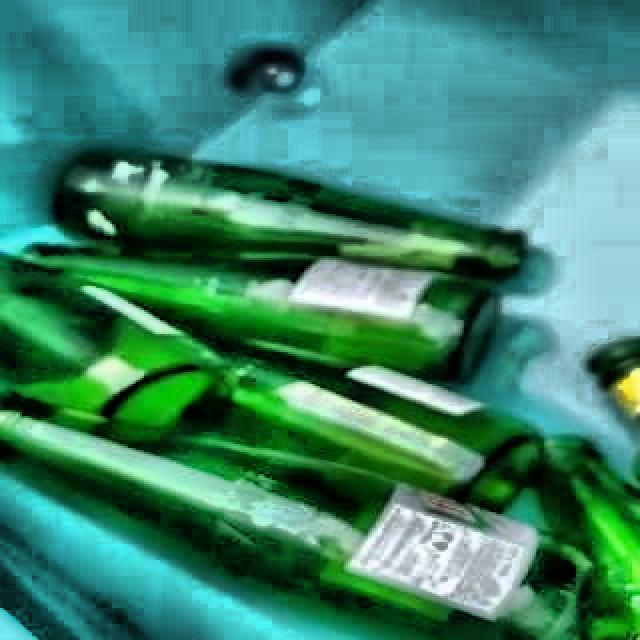glass: (0, 151, 640, 640)
